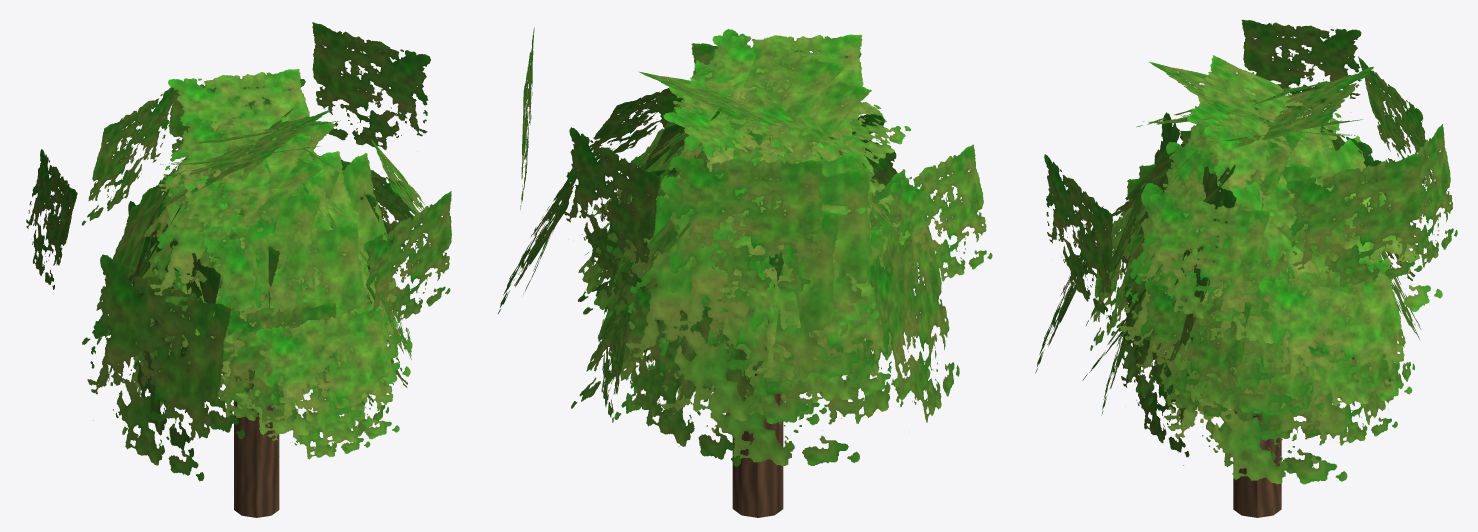
The model's file is prop_tree.glb.
3 views of the same model, side by side, from view 1: azimuth 30°, elevation 25°; view 2: azimuth 150°, elevation 25°; view 3: azimuth 270°, elevation 25° (orthographic). The views are drawn at different scales.
Visible parts, largest first — view 1: prop; view 2: prop; view 3: prop.
Part boxes in pixels (x1=…): prop: x1=26, y1=22, x2=451, y2=517; prop: x1=498, y1=27, x2=992, y2=517; prop: x1=1035, y1=19, x2=1457, y2=517.
Size of the model in its own units: 5.47 by 5.01 by 4.58.
3 materials, 3 textured.
